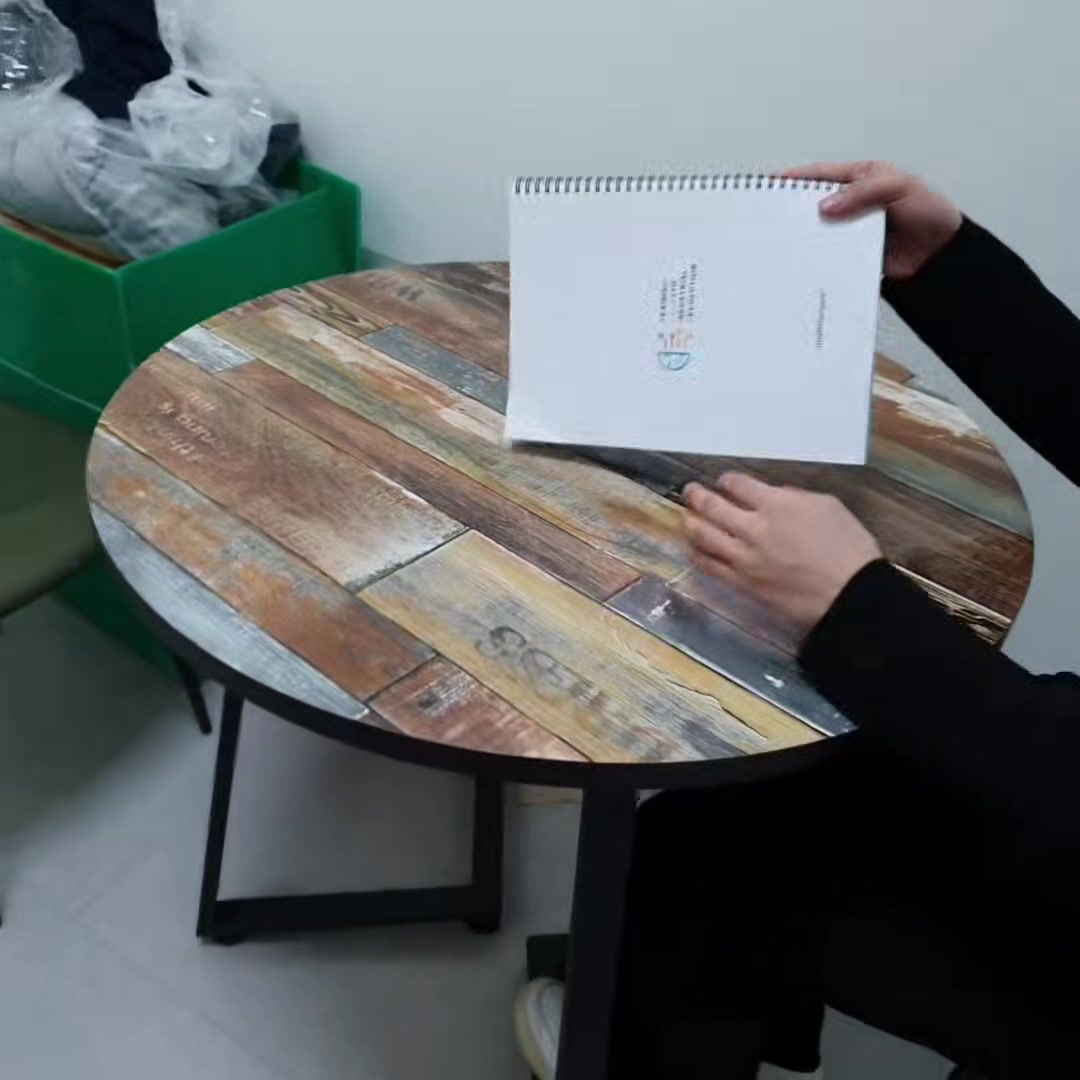book: (497, 172, 885, 478)
